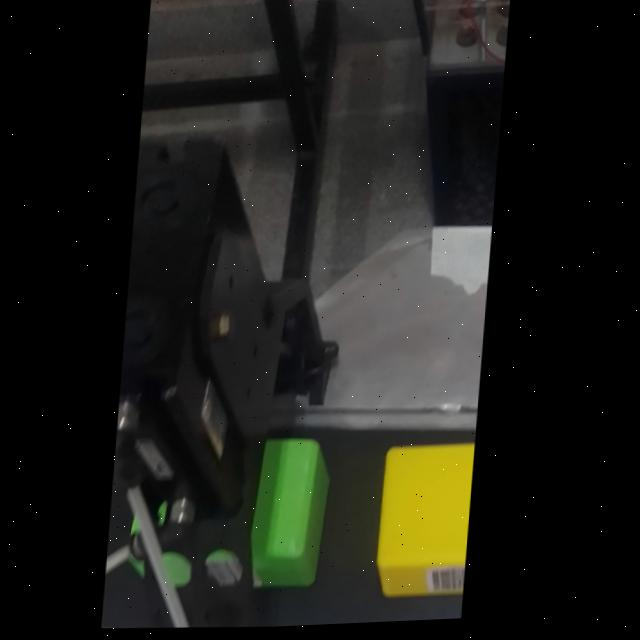yellowBox: (362, 427, 480, 616)
